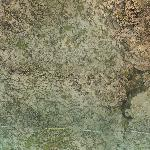dead: (6, 6, 145, 144)
